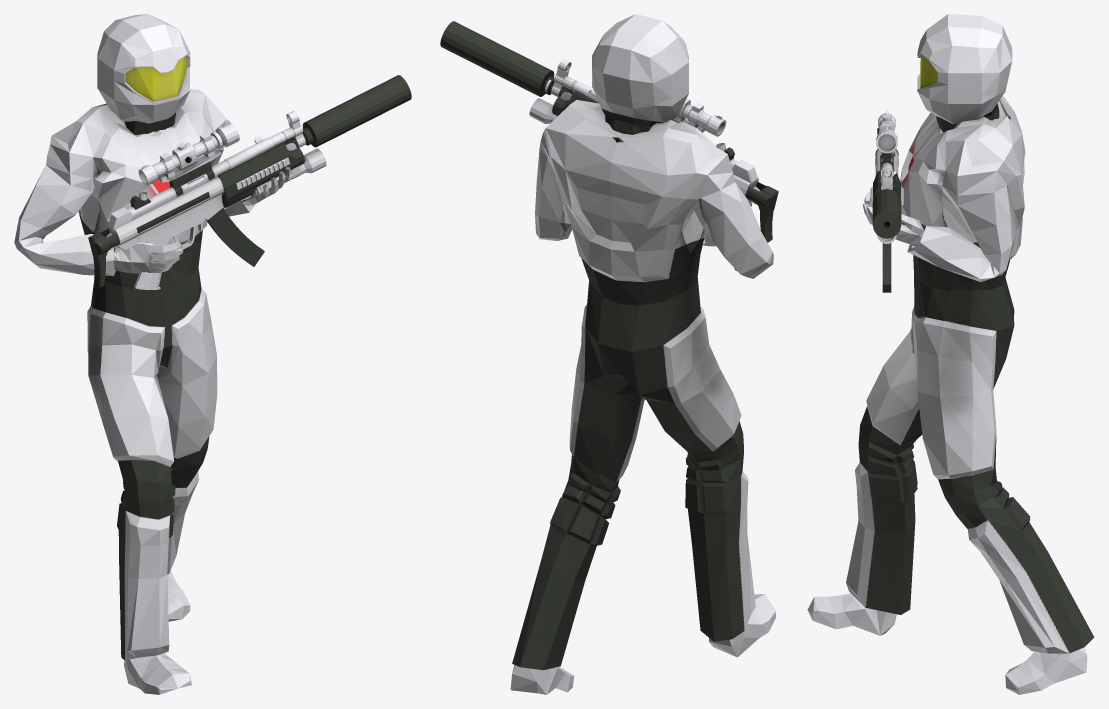
Rendered from walk2.obj.
3 views of the same model, side by side, from view 1: azimuth 30°, elevation 25°; view 2: azimuth 150°, elevation 25°; view 3: azimuth 270°, elevation 25° (orthographic). The views are drawn at different scales.
Visible parts, largest first — view 1: Male001Skin_001, Object001; view 2: Male001Skin_001, Object001; view 3: Male001Skin_001, Object001.
Part boxes in pixels (left/top/right/bottom): Male001Skin_001: left=14, top=14, right=290, bottom=694; Object001: left=88, top=75, right=411, bottom=289; Male001Skin_001: left=510, top=14, right=775, bottom=694; Object001: left=440, top=21, right=778, bottom=246; Male001Skin_001: left=807, top=14, right=1094, bottom=694; Object001: left=870, top=110, right=903, bottom=292.
Size of the model in its own units: 1111 by 1902 by 774.
Materials: 1 (1 with a texture image).
